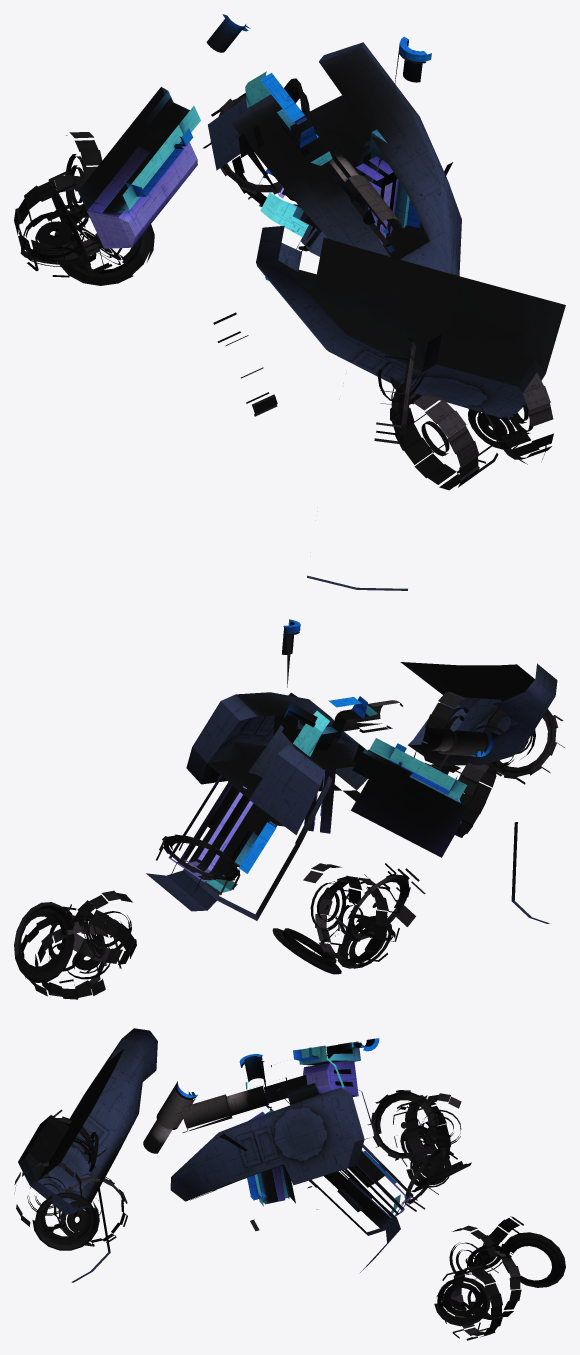
File: PlayerA_Die19.obj
3 renders of one model, top to bottom at view 1: azimuth 30°, elevation 25°; view 2: azimuth 150°, elevation 25°; view 3: azimuth 270°, elevation 25°, orthographic. The views are drawn at different scales.
Parts seen in each view (by area): view 1: Object001; view 2: Object001; view 3: Object001.
Boxes of the visible parts, x1,y1,x2,y2 form: Object001: [14, 14, 565, 590]; Object001: [14, 619, 564, 999]; Object001: [14, 1028, 565, 1340].
Bounding box in the file's own units: 191 × 171 × 313.
1 material, 1 textured.
